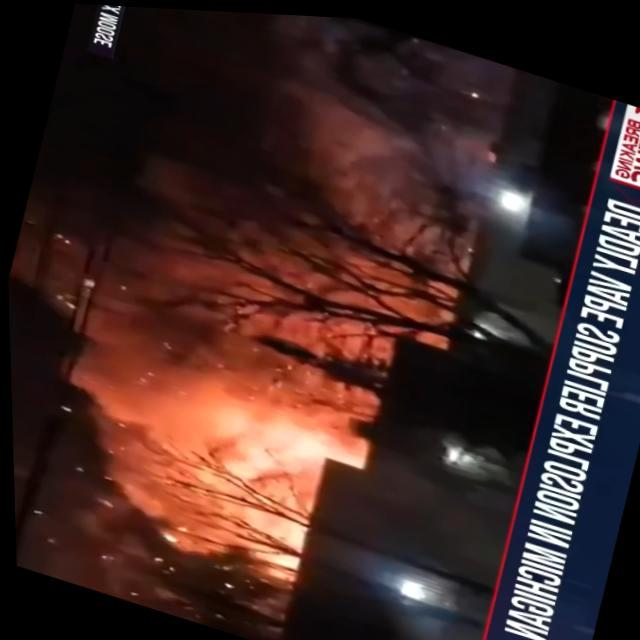fire: (30, 288, 394, 616)
